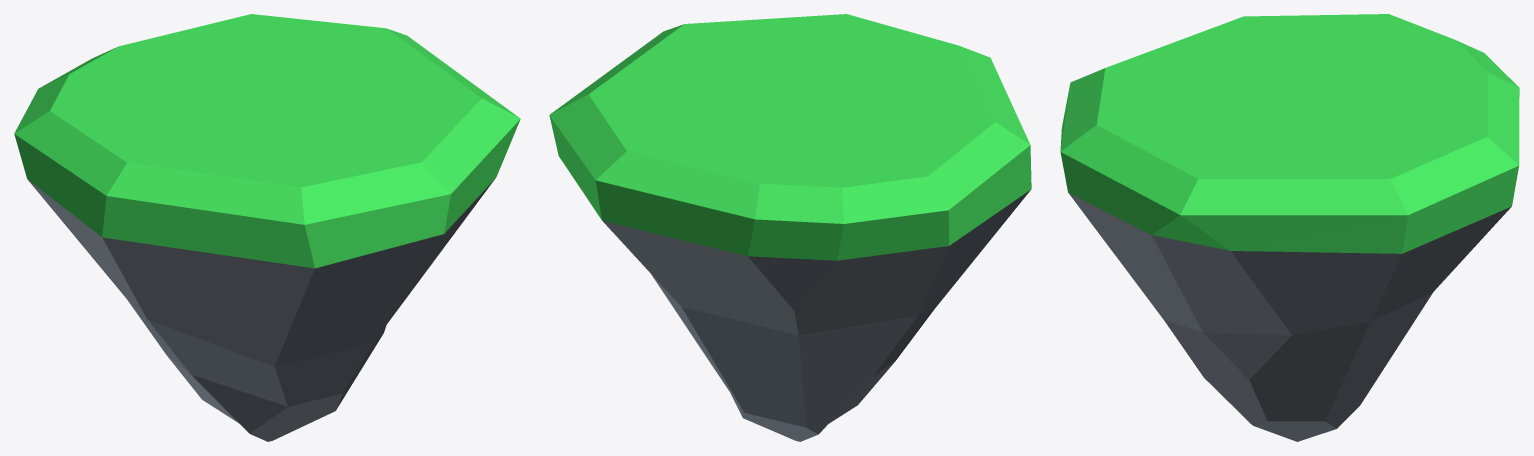
Rendered from testmodelsisland_Island_002.fbx.
The picture shows the model from 3 angles, left to right: view 1: azimuth 30°, elevation 25°; view 2: azimuth 150°, elevation 25°; view 3: azimuth 270°, elevation 25°; orthographic projection.
Visible parts, largest first — view 1: island_Island_002; view 2: island_Island_002; view 3: island_Island_002.
Part boxes in pixels (left/top/right/bottom): island_Island_002: left=14, top=14, right=520, bottom=441; island_Island_002: left=549, top=14, right=1031, bottom=441; island_Island_002: left=1060, top=14, right=1519, bottom=441.
Bounding box in the file's own units: 833 × 684 × 834.
